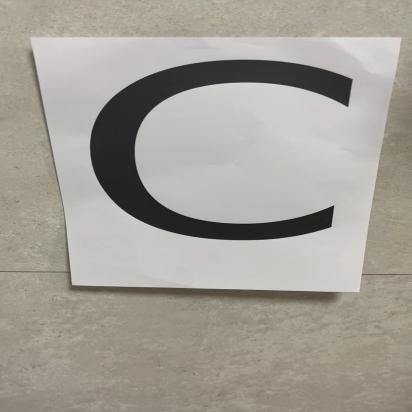seat: (41, 40, 352, 285)
